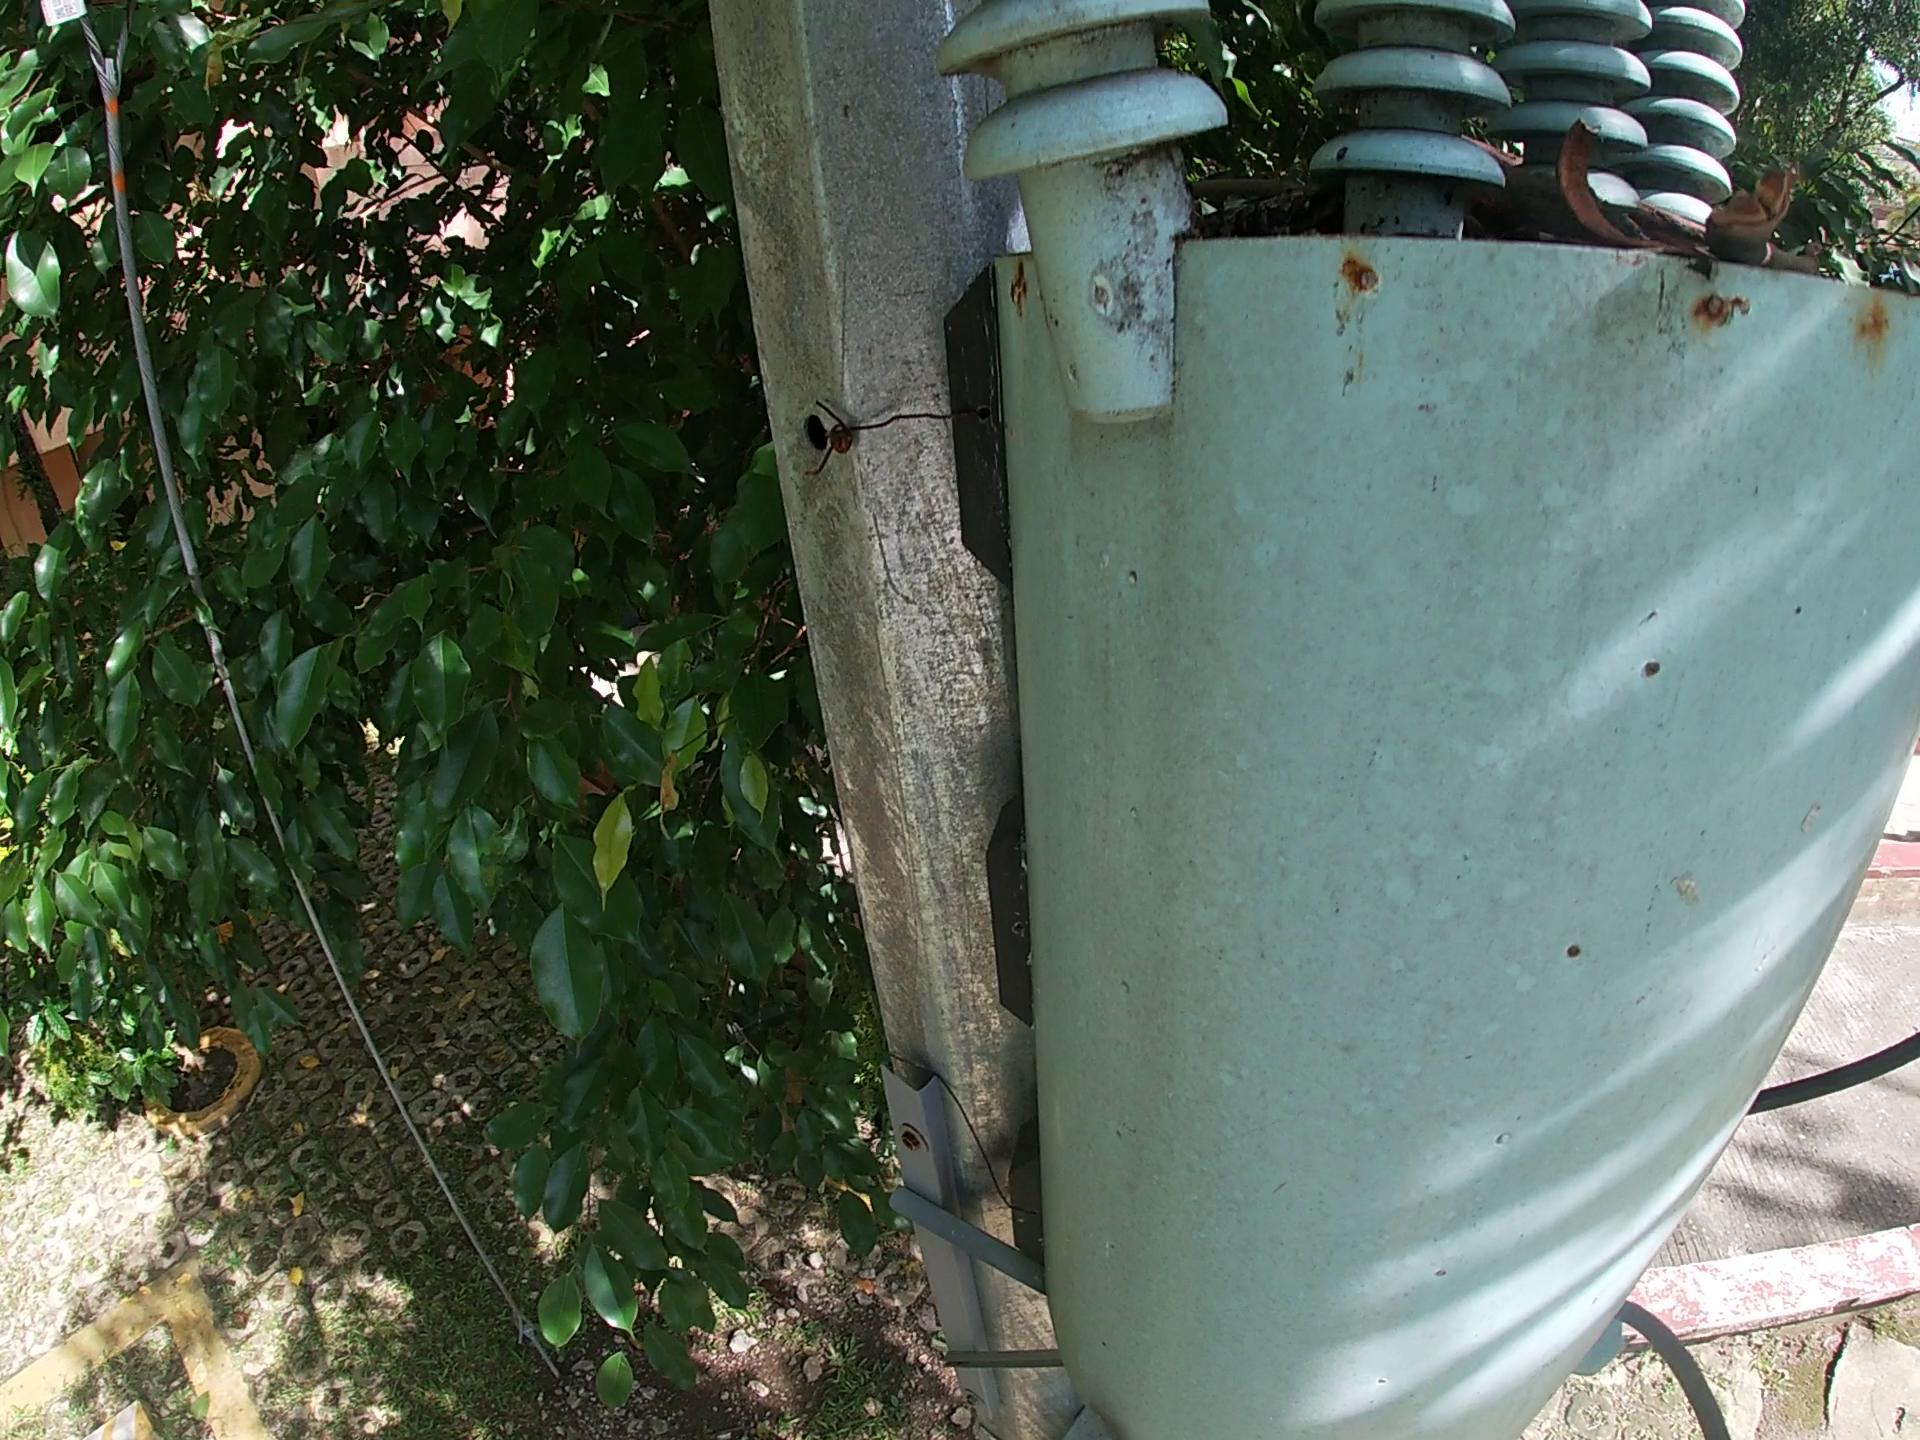mahogany fruit: (1547, 119, 1640, 247), (1485, 151, 1571, 222)
tree branch: (1695, 166, 1826, 266), (1196, 198, 1323, 242), (1612, 198, 1704, 247), (1194, 172, 1315, 200)
